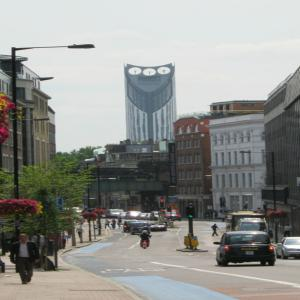Vehicle-registration-plate: (243, 248, 258, 253)
